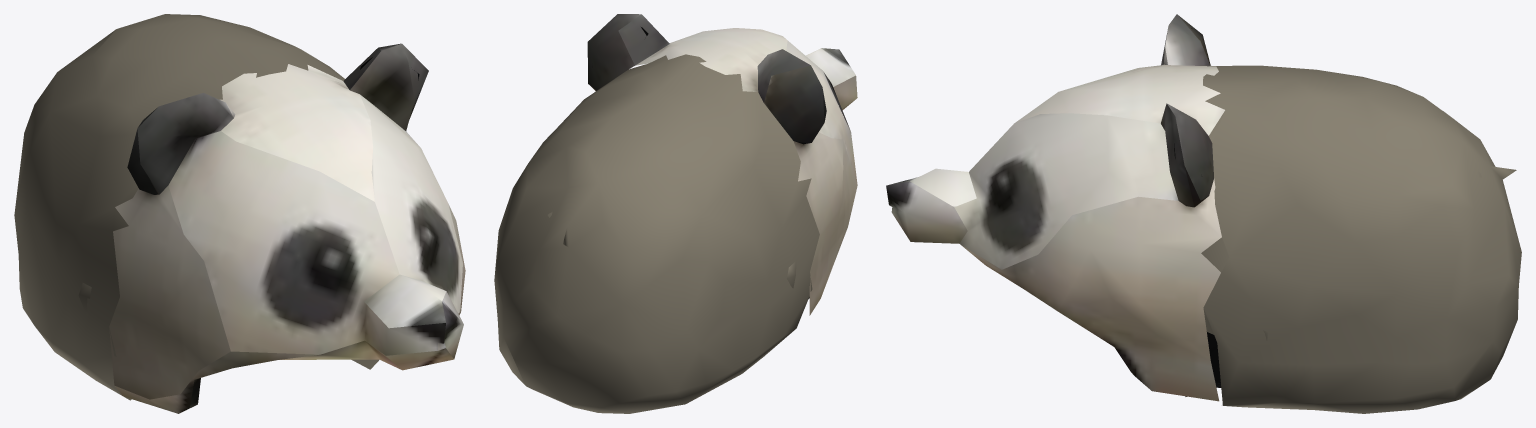
The model's file is panda.glb.
3 views of the same model, side by side, from view 1: azimuth 30°, elevation 25°; view 2: azimuth 150°, elevation 25°; view 3: azimuth 270°, elevation 25° (orthographic). The views are drawn at different scales.
Parts seen in each view (by area): view 1: geometry_0, HoodAnatomicalLining; view 2: geometry_0; view 3: geometry_0, HoodAnatomicalLining.
Boxes of the visible parts, <box> form: geometry_0: <box>14,14,465,413</box>; HoodAnatomicalLining: <box>78,282,379,369</box>; geometry_0: <box>494,14,857,413</box>; geometry_0: <box>886,14,1521,413</box>; HoodAnatomicalLining: <box>1185,111,1268,396</box>.
Bounding box in the file's own units: 0.4603 × 0.5069 × 0.915.
Materials: 2 (1 with a texture image).
